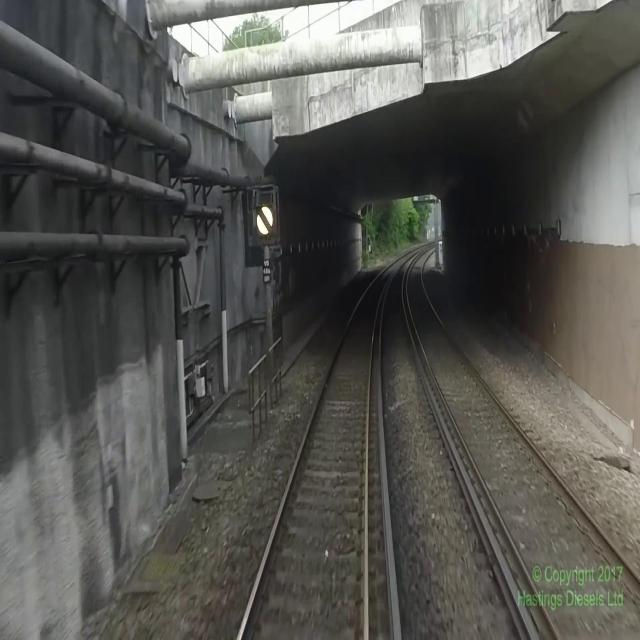rail-track: (407, 246, 640, 639), (241, 247, 422, 639)
